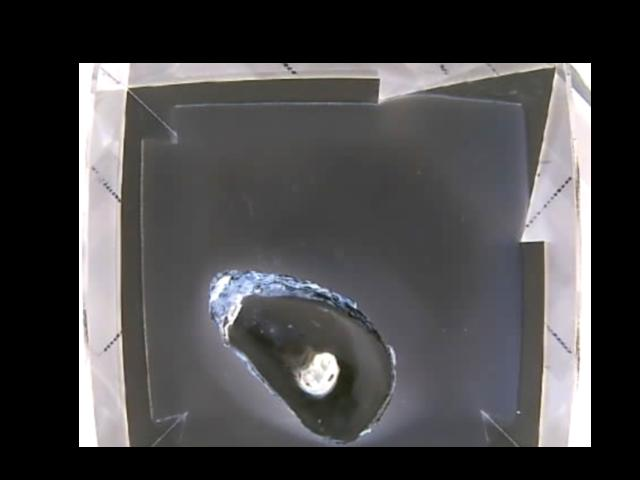Shell: (205, 268, 396, 446)
